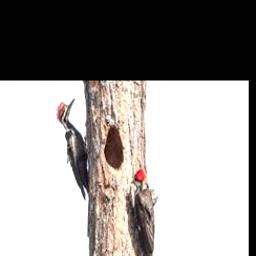Woodpecker: (56, 96, 89, 199), (130, 169, 155, 256)
